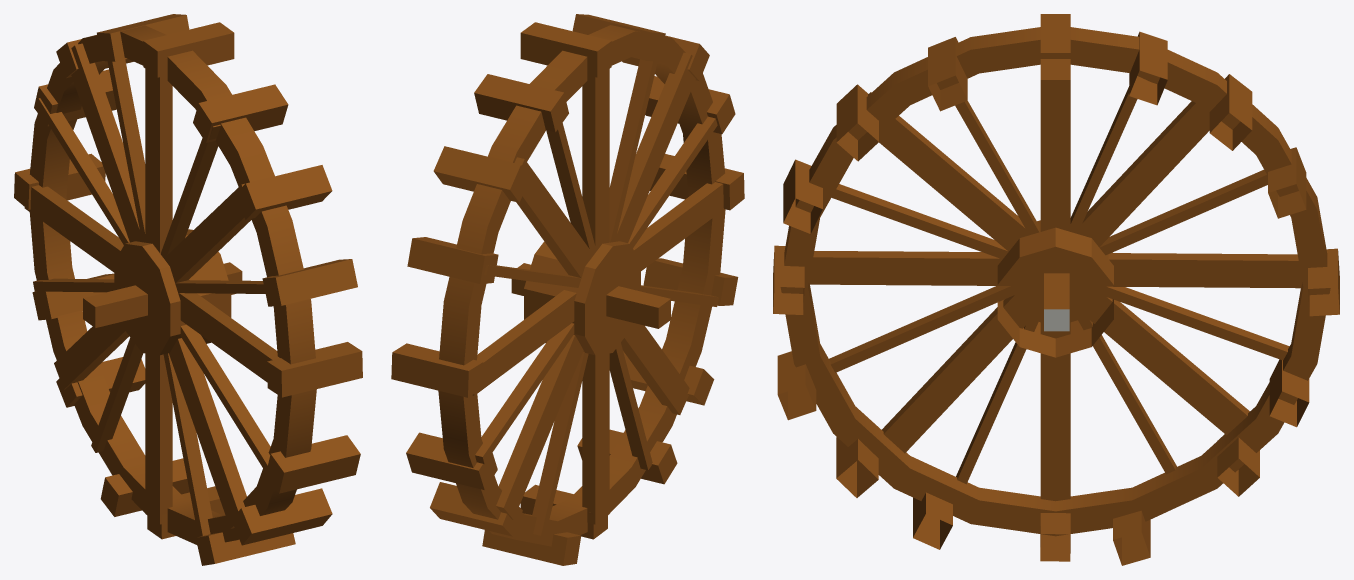
Rendered from noria_wheel.fbx.
3 renders of one model, left to right at view 1: azimuth 30°, elevation 25°; view 2: azimuth 150°, elevation 25°; view 3: azimuth 270°, elevation 25°, orthographic. The views are drawn at different scales.
Parts seen in each view (by area): view 1: polySurface402; view 2: polySurface402; view 3: polySurface402.
Part boxes in pixels (bbox=[...]): polySurface402: bbox=[14, 14, 362, 565]; polySurface402: bbox=[391, 14, 744, 565]; polySurface402: bbox=[773, 14, 1339, 565].
Bounding box in the file's own units: 87.37 × 280 × 281.
Materials: 1 (1 with a texture image).
